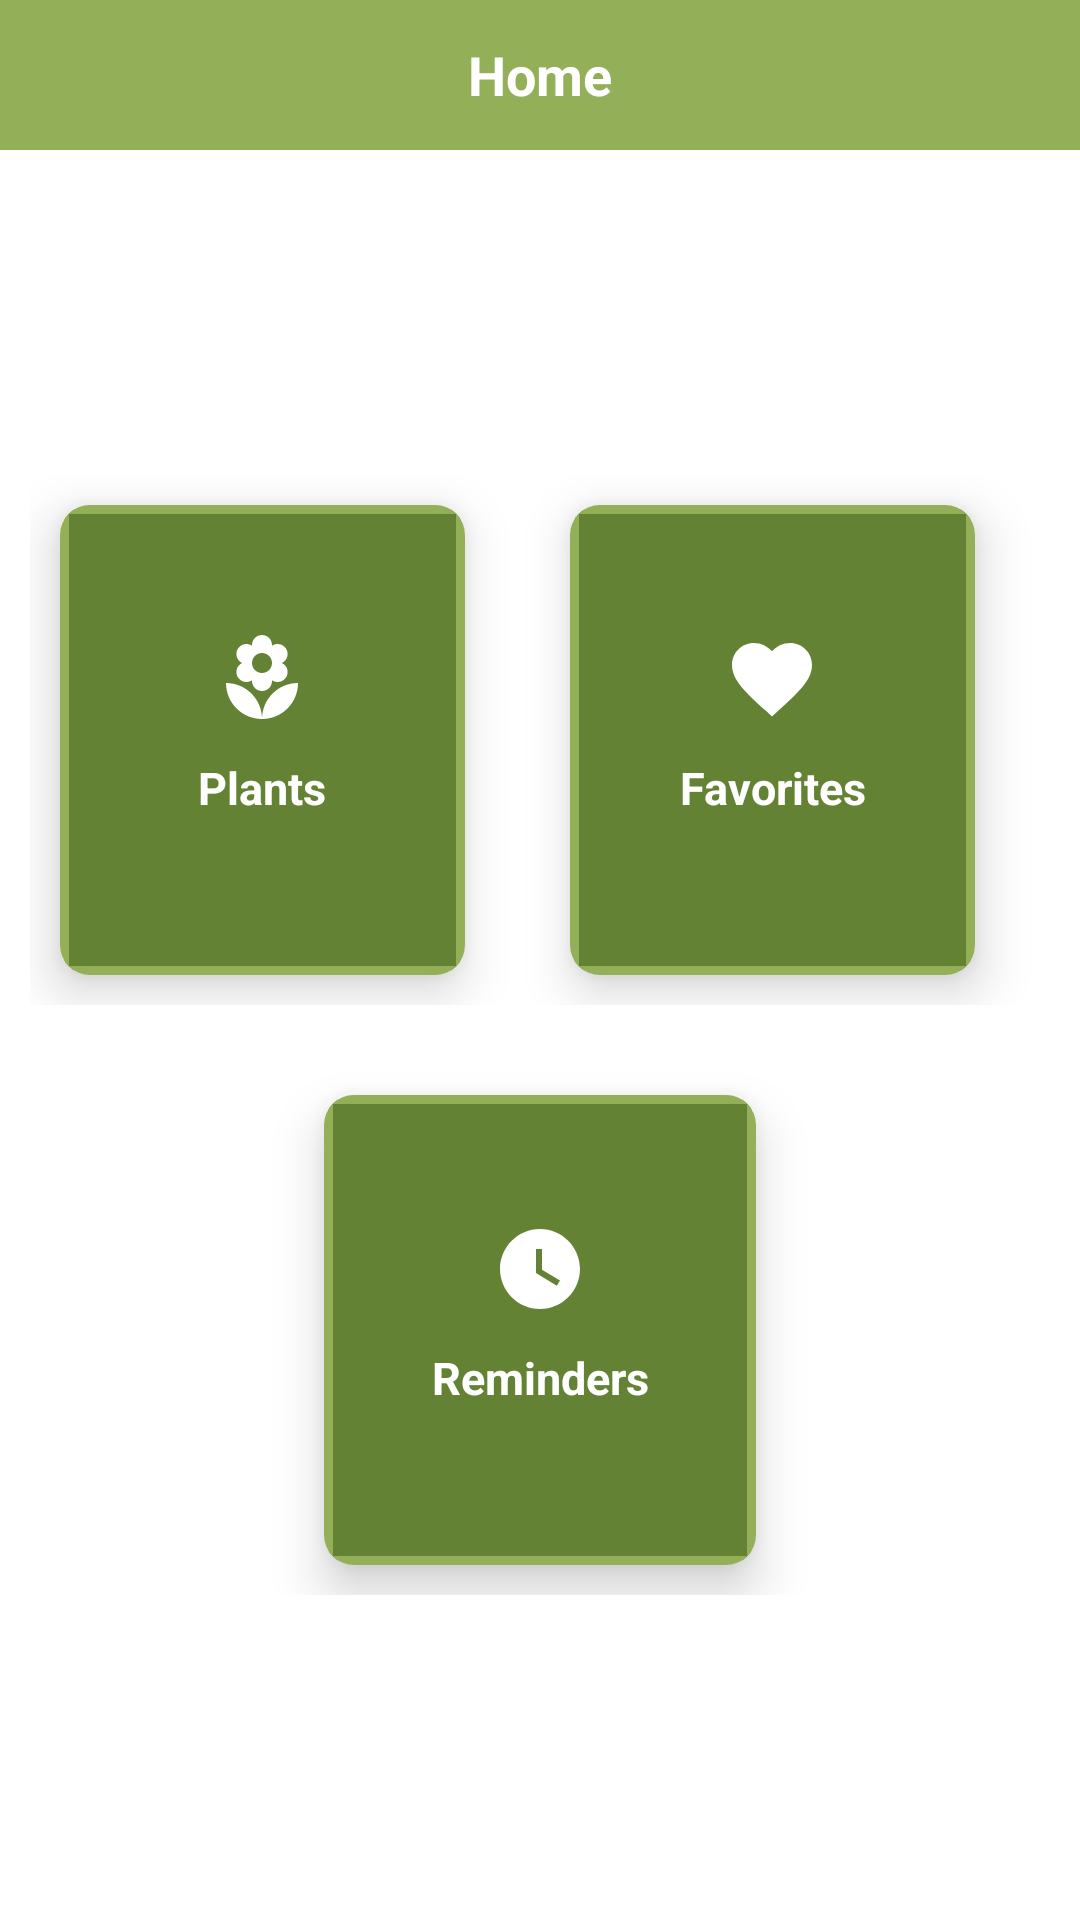

Where to tap for icons on this 1080 × 1920 app screen, as (x,y):
local florist: (262,677)
watch later: (540,1269)
